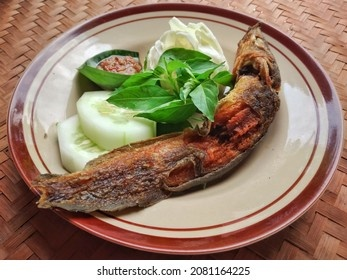pecel_lele: (223, 21, 282, 159)
